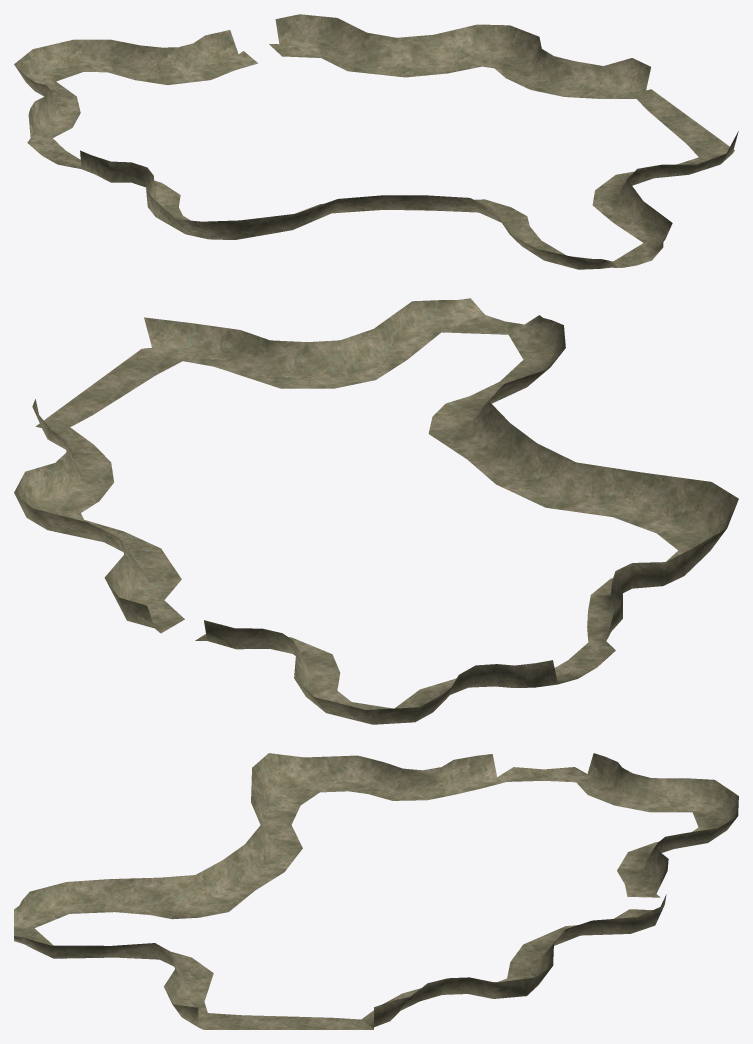
The model's file is EKH_JAIL_PS_JA_OBJECT11.fbx.
3 views of the same model, one above another, from view 1: azimuth 30°, elevation 25°; view 2: azimuth 150°, elevation 25°; view 3: azimuth 270°, elevation 25° (orthographic). The views are drawn at different scales.
Parts seen in each view (by area): view 1: EKH_JAIL_PS_JA_OBJECT11; view 2: EKH_JAIL_PS_JA_OBJECT11; view 3: EKH_JAIL_PS_JA_OBJECT11.
Boxes of the visible parts, bbox=[...] form: EKH_JAIL_PS_JA_OBJECT11: bbox=[14, 14, 738, 269]; EKH_JAIL_PS_JA_OBJECT11: bbox=[14, 298, 738, 724]; EKH_JAIL_PS_JA_OBJECT11: bbox=[14, 753, 738, 1029].
Bounding box in the file's own units: 181586 × 9138 × 212982.
1 material, 1 textured.
